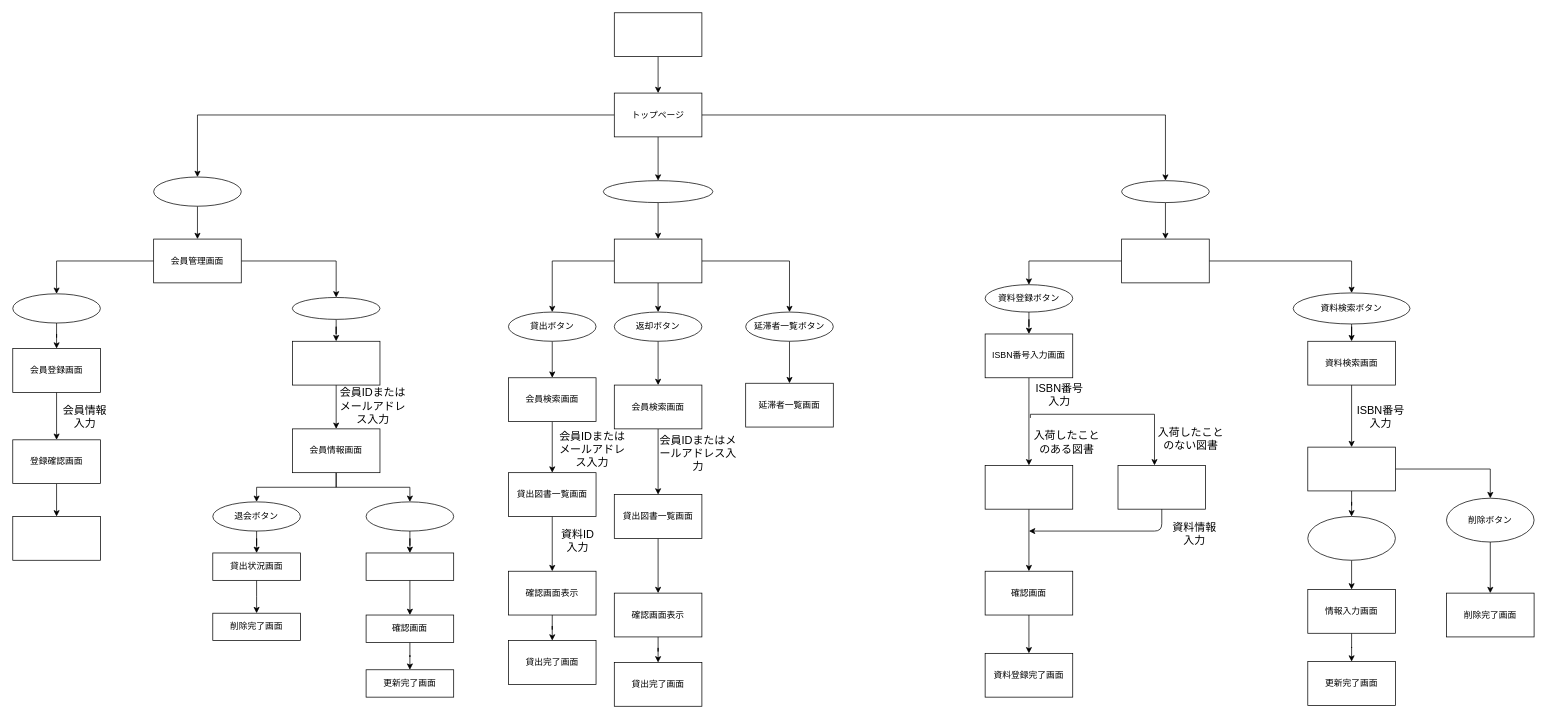
The diagram is 1547 pixels wide and 719 high, and some of its shapes have lost their labels. Here are the shapes that lost their labels. From the top down, the centre of each, then its label:
At [658,34]: "職員のログイン画面".
At [197,191]: "会員管理遷移ボタン".
At [658,191]: "貸出・返却遷移ボタン".
At [1165,191]: "資料管理遷移ボタン".
At [658,260]: "貸出・返却画面".
At [1165,260]: "資料管理画面".
At [56,308]: "新規登録ボタン".
At [336,308]: "会員の検索ボタン".
At [336,363]: "会員の検索画面".
At [1028,487]: "資料情報提示画面".
At [1161,487]: "資料情報入力画面".
At [1351,468]: "資料目録・資料台帳 表示画面".
At [409,516]: "変更ボタン".
At [56,538]: "登録完了画面".
At [1351,538]: "更新ボタン".
At [409,566]: "会員情報画面 (入力可)".
